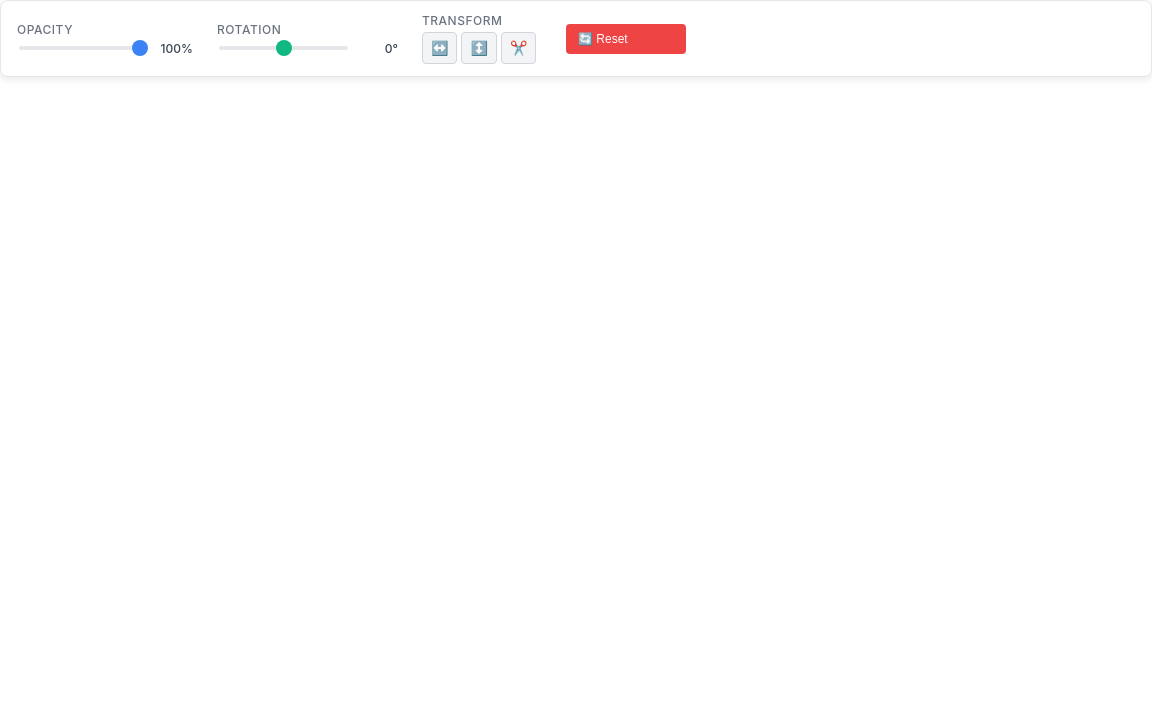
Test case: ImageEditingToolbar › opens crop dialog when crop button is clicked
Click the button titled "Crop Image" at (519, 48), box x1=501 y1=32 x2=536 y2=64
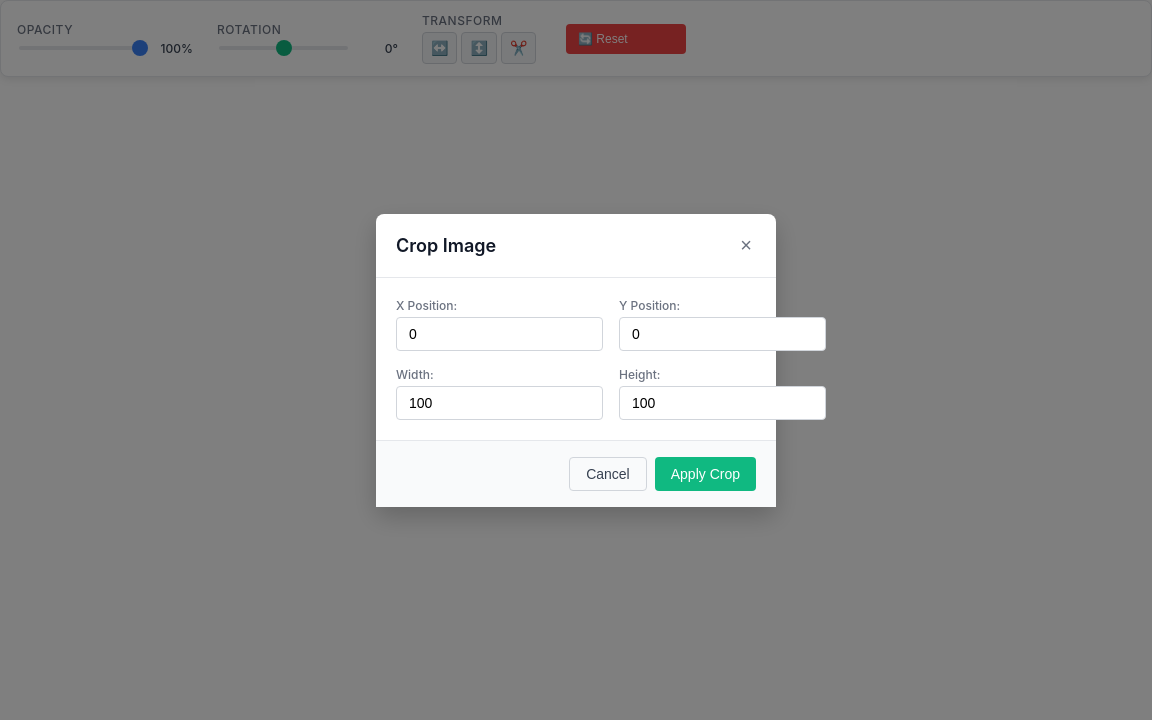
Expected: the heading "Crop Image" is shown, x1=396 y1=234 x2=496 y2=256
Expected: the button "Apply Crop" is shown, x1=655 y1=456 x2=756 y2=490
